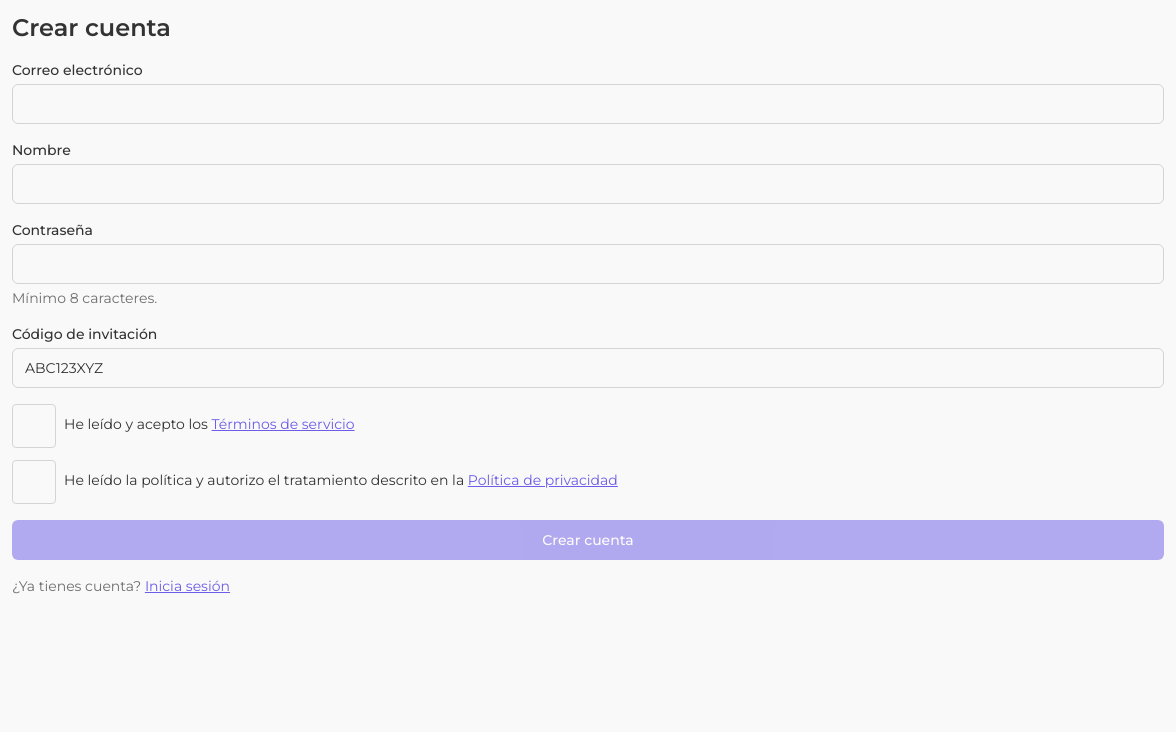
Scenario: RegisterForm legal acknowledgements › keeps registration disabled until both acknowledgements are checked
Step 1. Type "ana@example.com" into the field labelled "Correo electrónico" → x=588, y=104, box [12,84,1164,124]
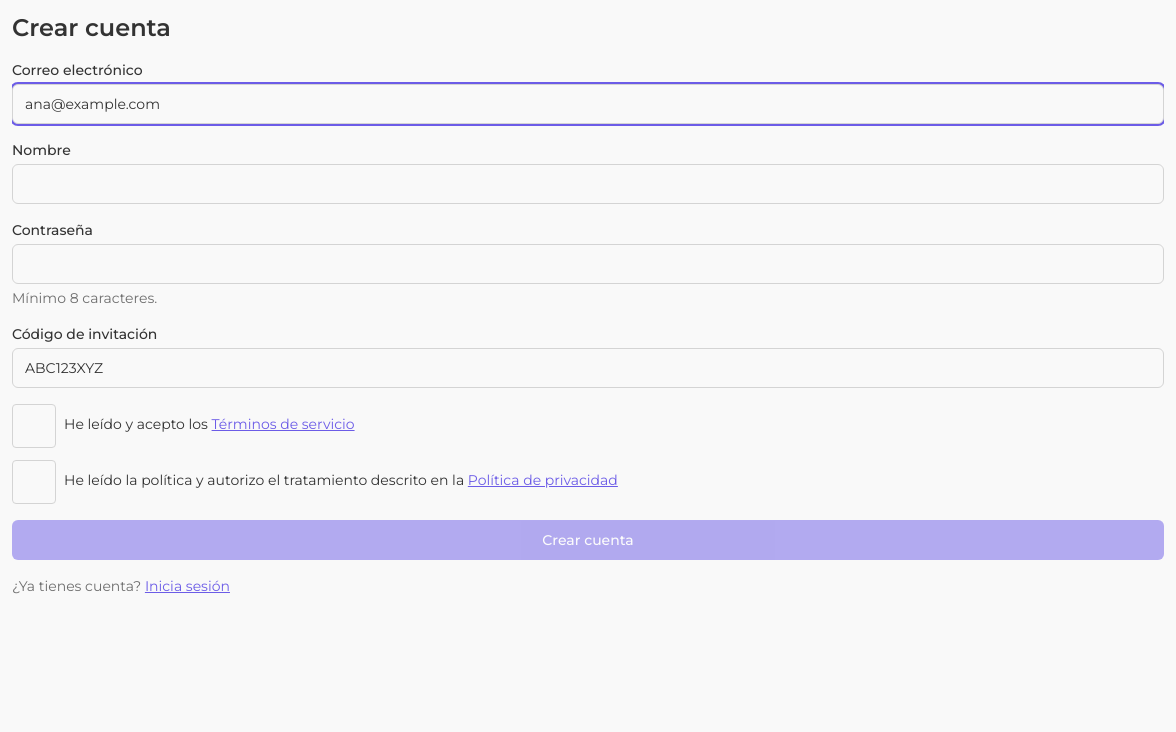
Step 2. Type "Ana" into the field labelled "Nombre" → x=588, y=184, box [12,164,1164,204]
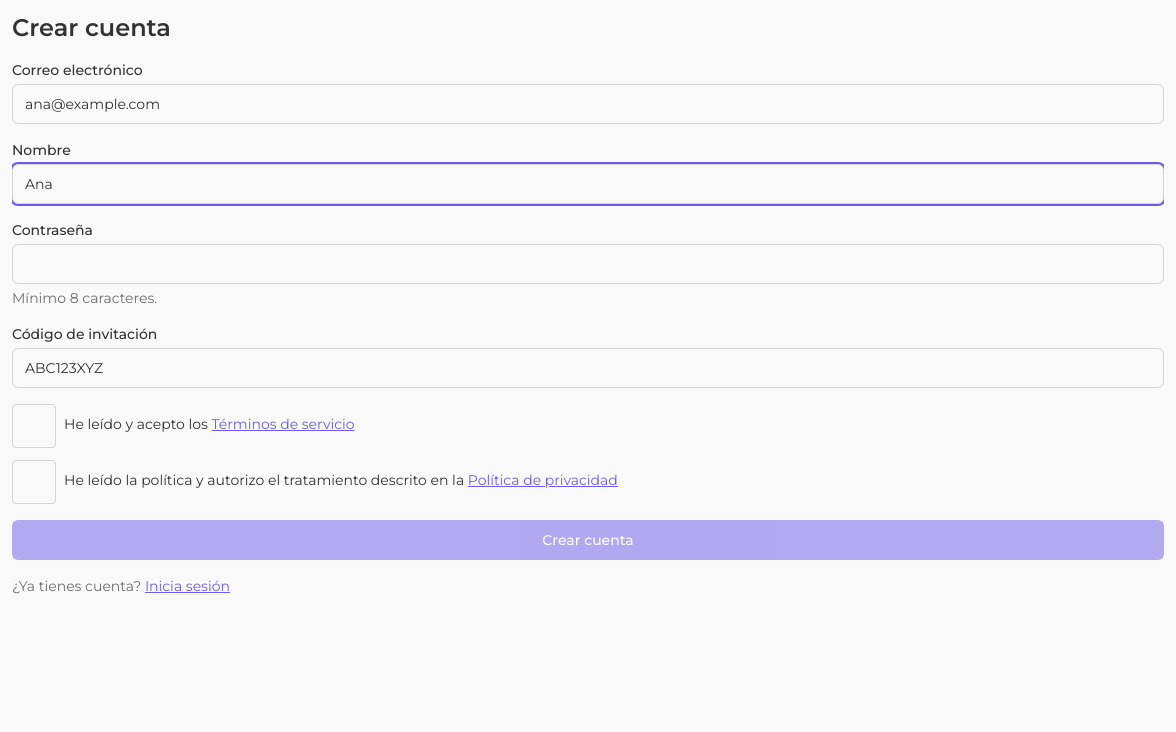
Step 3. Type "correct horse battery staple" into the password field labelled "Contraseña" → x=588, y=264, box [12,244,1164,284]
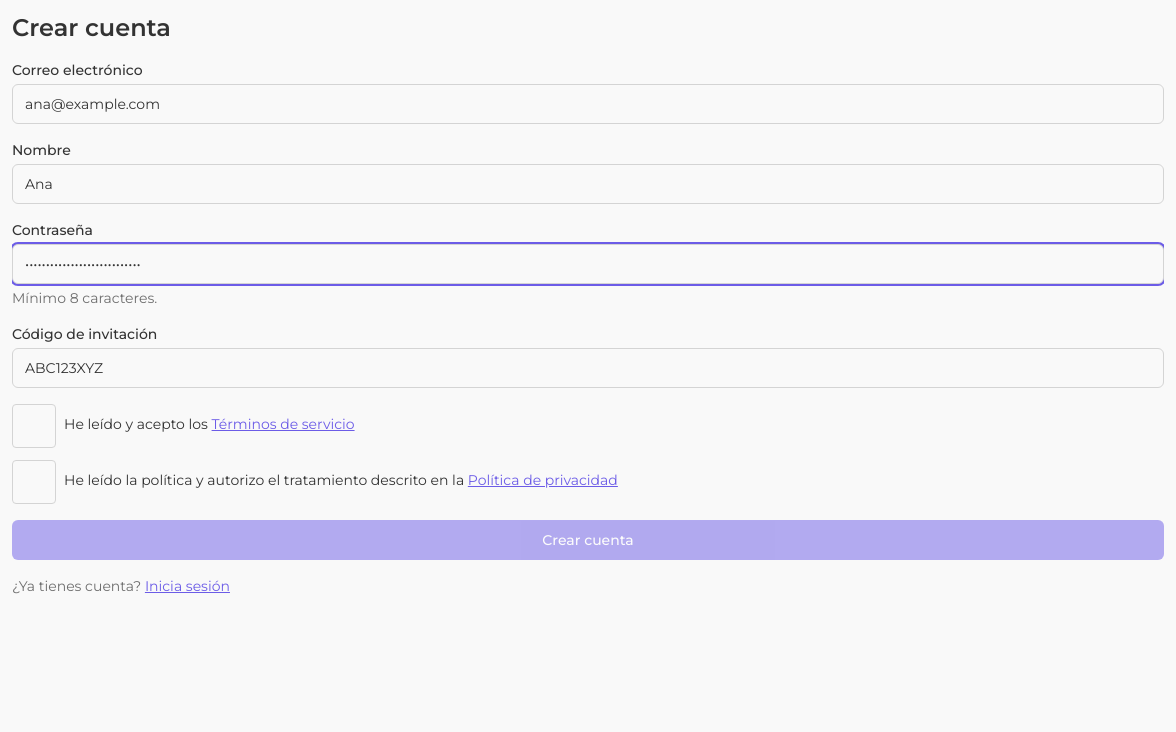
Check: the button "Crear cuenta" is disabled, box [12,520,1164,560]
Step 4. Click the checkbox named "Términos de servicio" next to "He leído y acepto los" → x=34, y=426, box [12,404,56,448]
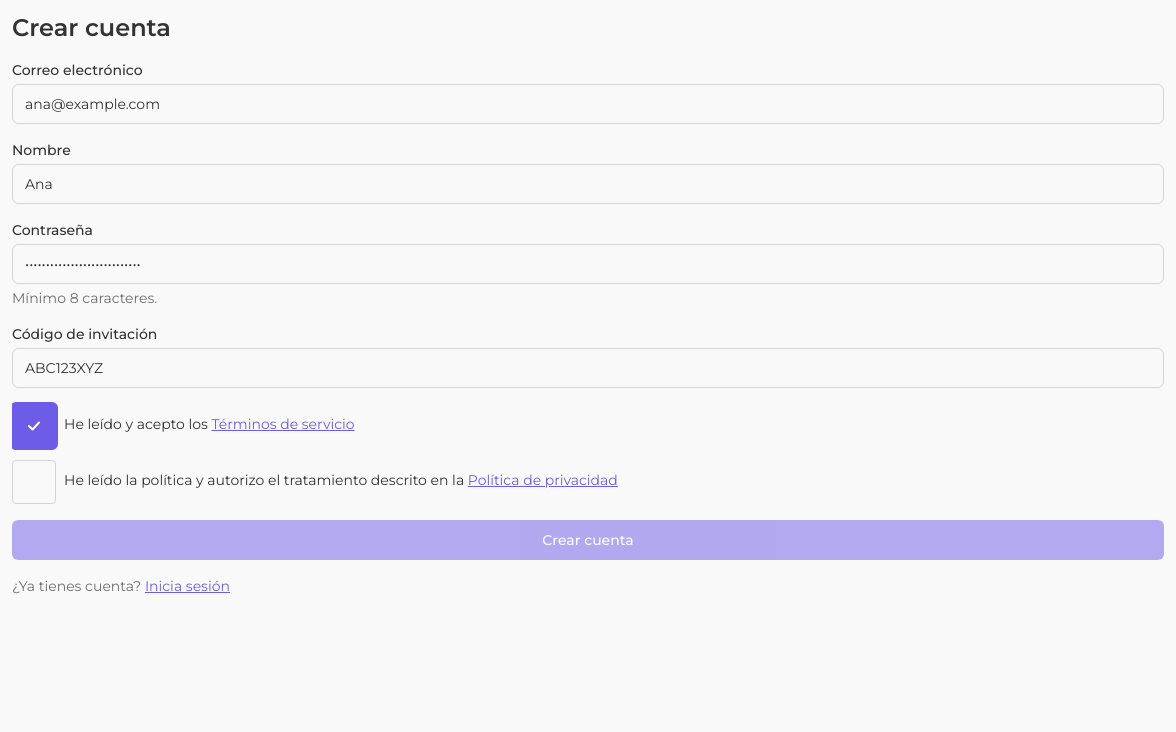
Check: the button "Crear cuenta" is disabled, box [12,520,1164,560]
Step 5. Click the checkbox named "Política de privacidad" in the row of "Política de privacidad" → x=34, y=482, box [12,460,56,504]
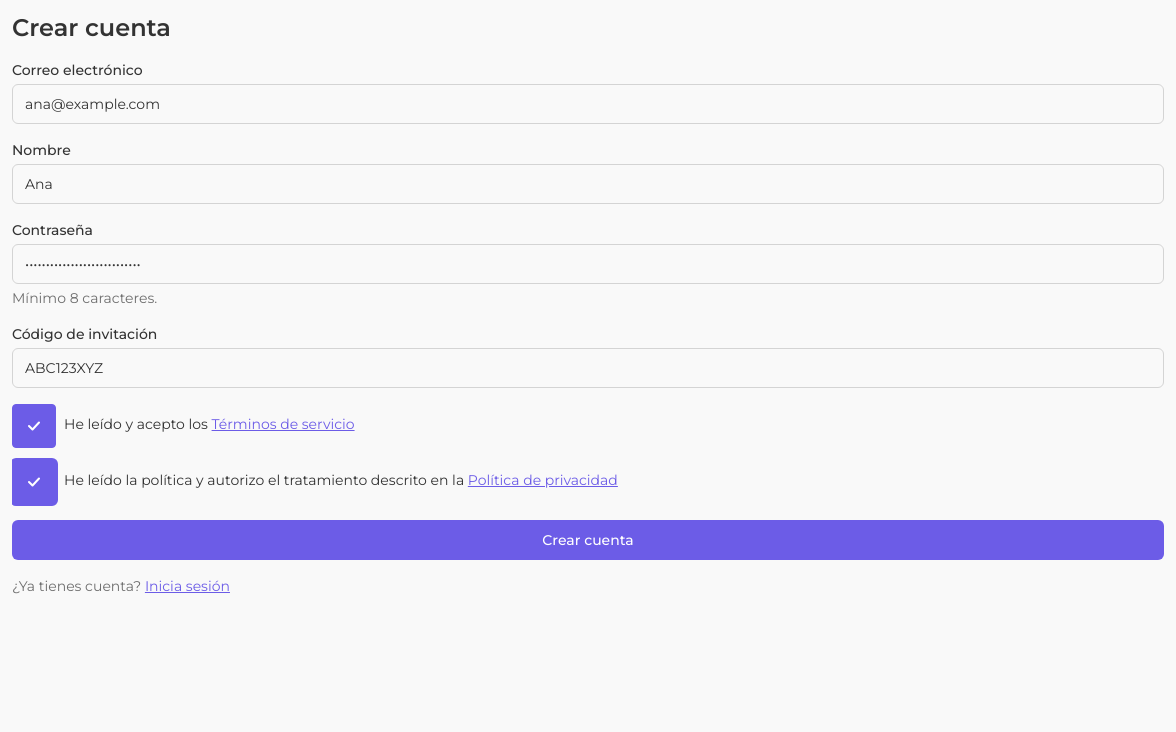
Check: the button "Crear cuenta" is enabled, box [12,520,1164,560]
